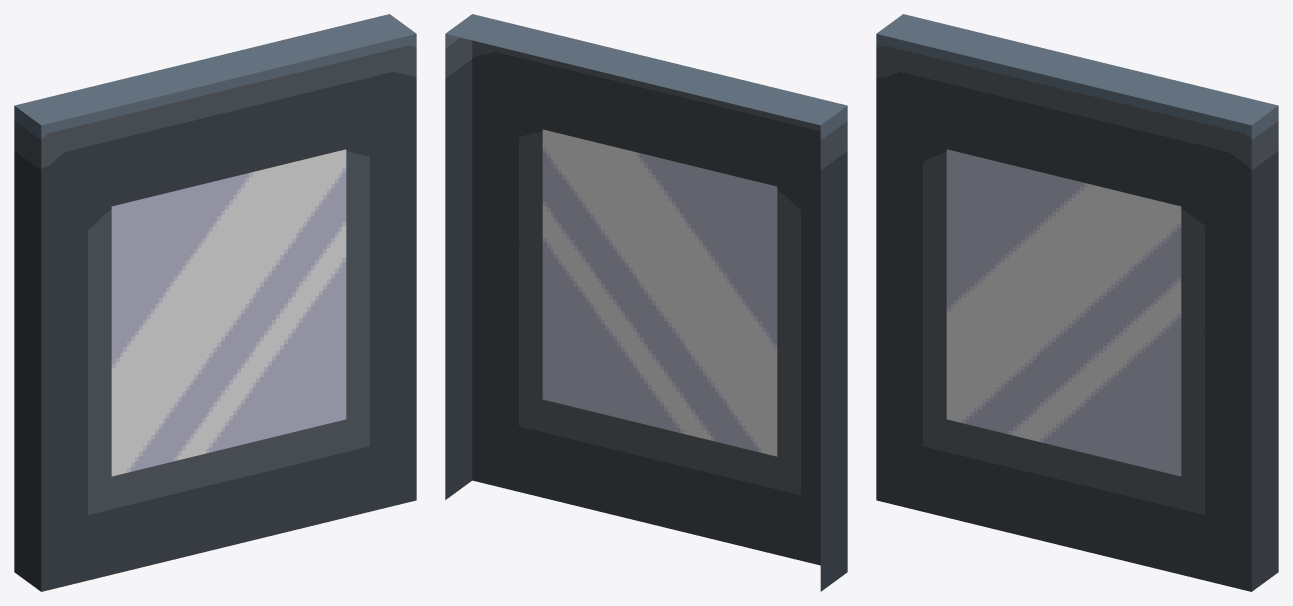
3 renders of one model, left to right at view 1: azimuth 30°, elevation 25°; view 2: azimuth 150°, elevation 25°; view 3: azimuth 330°, elevation 25°, orthographic.
Parts seen in each view (by area): view 1: polygon0, polygon1; view 2: polygon0, polygon1; view 3: polygon0, polygon1.
Boxes of the visible parts, <box> form: polygon0: <box>14,14,416,591</box>; polygon1: <box>111,149,346,476</box>; polygon0: <box>445,14,847,591</box>; polygon1: <box>542,129,777,456</box>; polygon0: <box>876,14,1278,591</box>; polygon1: <box>946,149,1181,476</box>.
Size of the model in its own units: 2 by 2.38 by 0.25.
